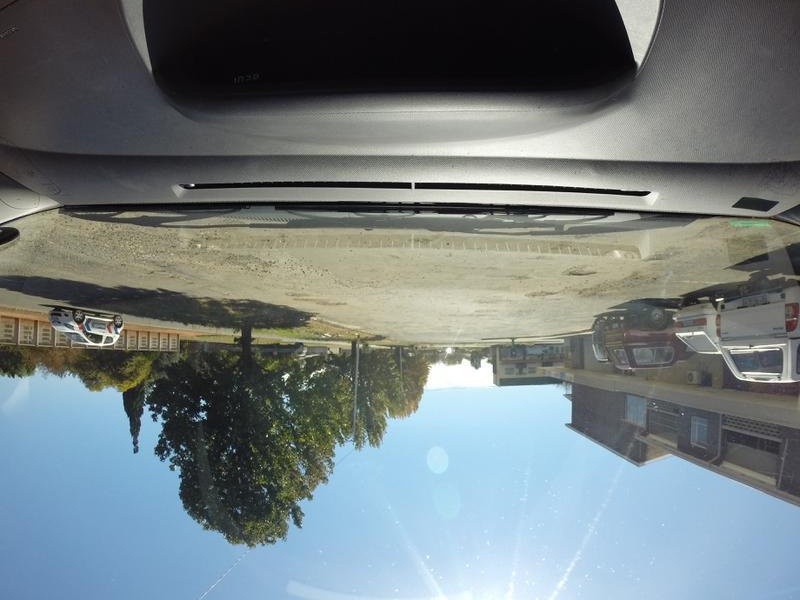pothole: (563, 265, 604, 279), (527, 286, 567, 300)
